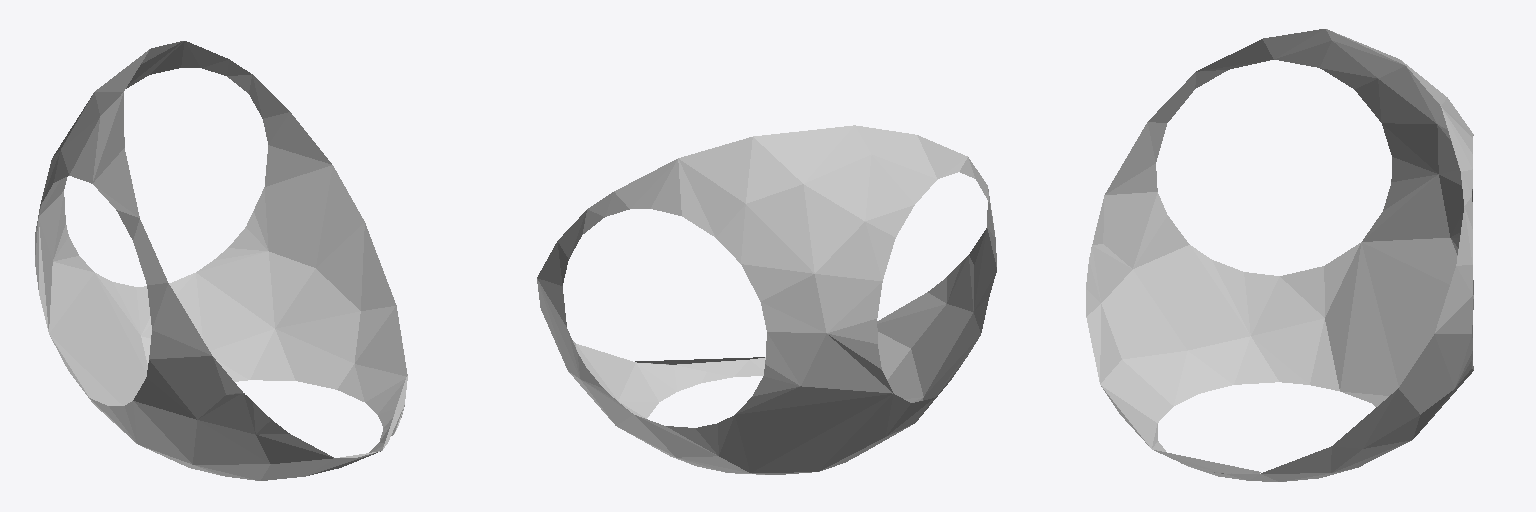
Rendered from hemis_with_holes_0.obj.
3 views of the same model, side by side, from view 1: azimuth 30°, elevation 25°; view 2: azimuth 150°, elevation 25°; view 3: azimuth 270°, elevation 25° (orthographic).
Parts seen in each view (by area): view 1: <STL_BINARY>; view 2: <STL_BINARY>; view 3: <STL_BINARY>.
Boxes of the visible parts, x1,y1,x2,y2 form: <STL_BINARY>: [35, 41, 407, 480]; <STL_BINARY>: [537, 125, 996, 474]; <STL_BINARY>: [1086, 29, 1473, 481].
Size of the model in its own units: 0.9972 by 0.989 by 0.9978.